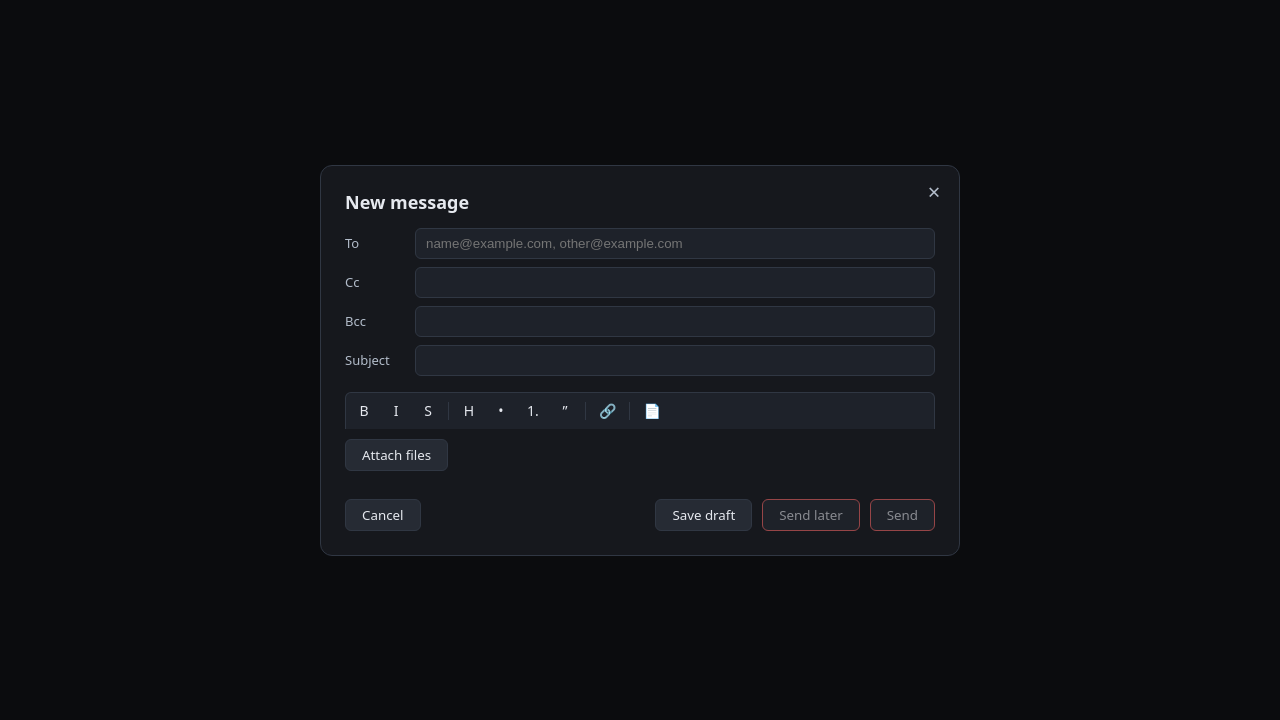
ComposeModal: opening and closing the picker › reports a failure to load the templates and leaves the picker shut
Click the button named "Insert template". click: (652, 410)
box: [636,396,668,424]
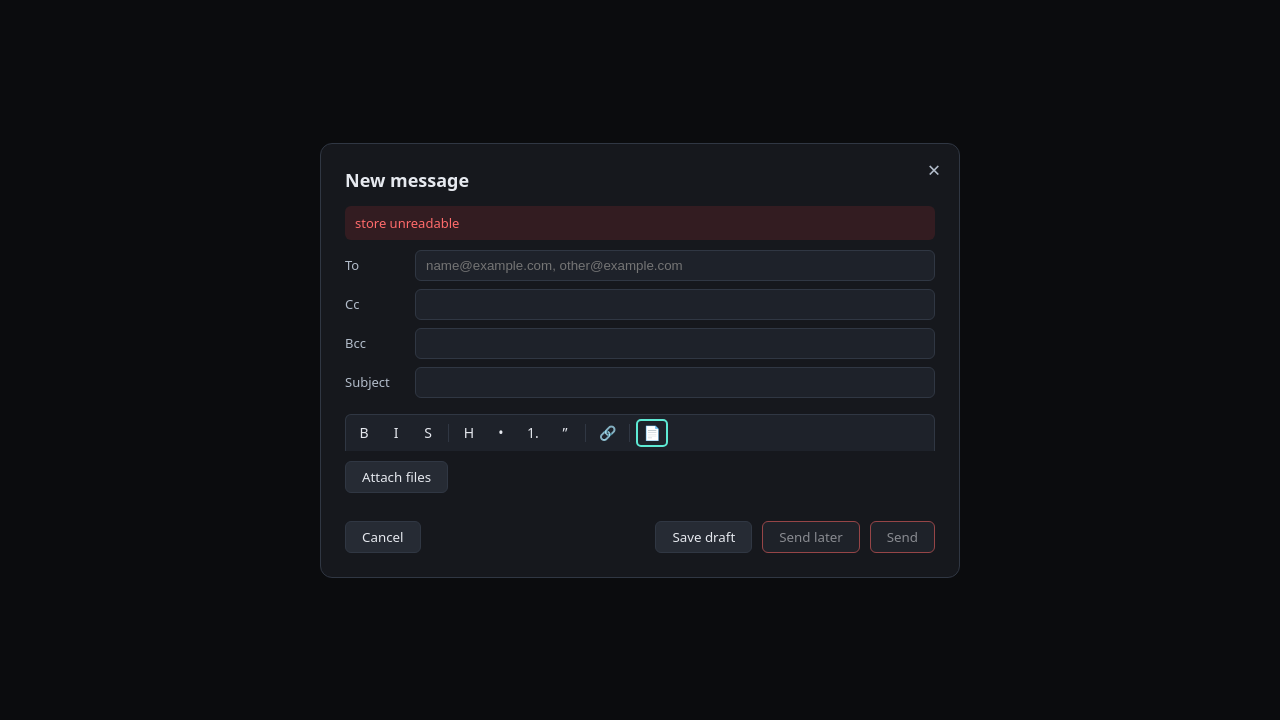
Check: the text "store unreadable" is shown, box [345,206,935,240]
